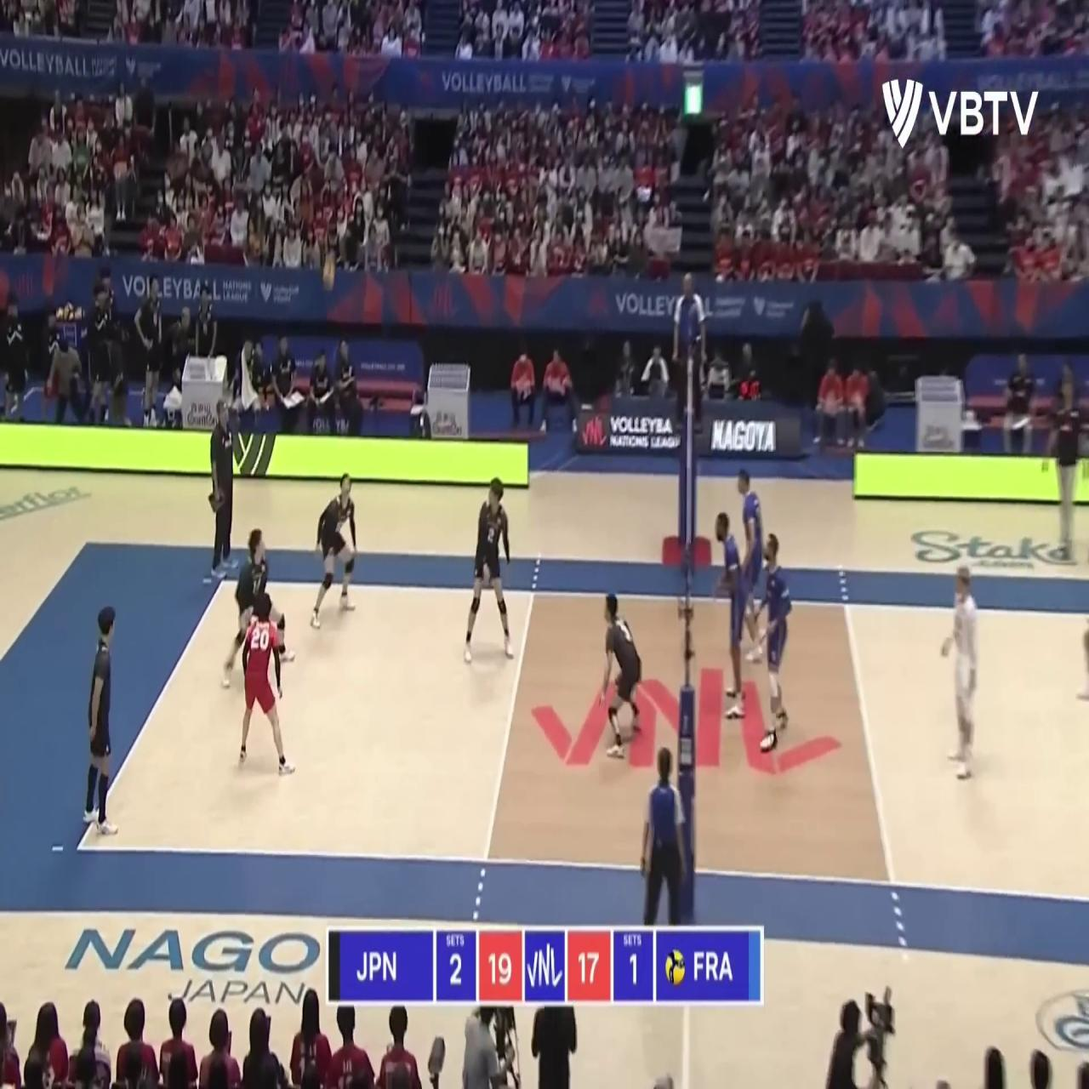ball: (323, 260, 336, 289)
